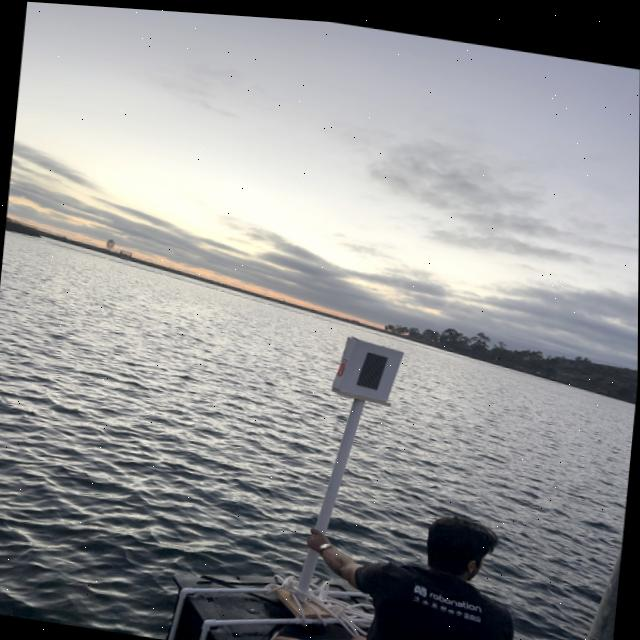led: (345, 339, 392, 399)
